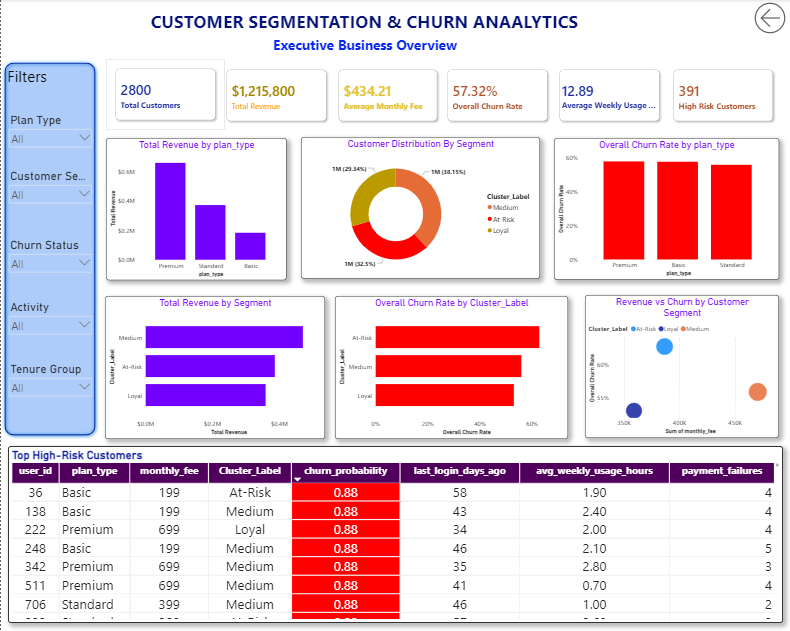

The page's visual inventory and layout, read from the dashboard file:
{"tool":"powerbi","page":{"name":"Executive dashboard","canvas":[2000,1600],"ordinal":1},"visuals":[{"type":"shape","box":[0,151.9,248.1,962],"z":0,"group":"g1"},{"type":"cardVisual","fields":{"Data":["customer_analytics_final.High Risk Customers"]},"box":[1679.6,154.4,300,179.7],"z":0},{"type":"cardVisual","fields":{"Data":["customer_analytics_final.Average Weekly Usage"]},"box":[1389.9,154.4,301.3,179.7],"z":1000},{"type":"slicer","fields":{"Values":["customer_analytics_final.plan_type"]},"box":[10.1,283.5,230.4,129.1],"z":1000,"group":"g1"},{"type":"cardVisual","fields":{"Data":["customer_analytics_final.Overall Churn Rate"]},"box":[1106.3,154.4,301.3,179.7],"z":2000},{"type":"slicer","fields":{"Values":["customer_analytics_final.Cluster_Label"]},"box":[10.1,425.3,230,121.5],"z":2000,"group":"g1"},{"type":"cardVisual","fields":{"Data":["customer_analytics_final.Average Monthly Fee"]},"box":[830.3,154.4,298.7,179.7],"z":3000},{"type":"slicer","fields":{"Values":["customer_analytics_final.predicted_churn"]},"box":[10.1,600,230,129.1],"z":3000,"group":"g1"},{"type":"cardVisual","fields":{"Data":["customer_analytics_final.Total Revenue"]},"box":[547.3,154.4,301.3,179.7],"z":4000},{"type":"slicer","fields":{"Values":["customer_analytics_final.avg_weekly_usage_hours"]},"box":[10.1,757,230,121.5],"z":4000,"group":"g1"},{"type":"cardVisual","fields":{"Data":["customer_analytics_final.Total Customers"]},"box":[263.3,151.9,301.3,179.7],"z":5000},{"type":"slicer","fields":{"Values":["customer_analytics_final.tenure_months"]},"box":[10.1,913.9,230,136.7],"z":5000,"group":"g1"},{"type":"clusteredColumnChart","fields":{"Category":["customer_analytics_final.plan_type"],"Y":["customer_analytics_final.Total Revenue"]},"box":[265.7,352.3,457.4,360.1],"z":6000},{"type":"clusteredColumnChart","fields":{"Category":["customer_analytics_final.plan_type"],"Y":["customer_analytics_final.Overall Churn Rate"]},"box":[1400,351.9,569.6,359.5],"z":7000},{"type":"donutChart","title":"Customer Distribution By Segment","fields":{"Category":["customer_analytics_final.Cluster_Label"],"Y":["Sum(customer_analytics_final.user_id)"]},"box":[759.5,349.4,605.1,359.5],"z":8000},{"type":"clusteredBarChart","title":"Total Revenue by Segment","fields":{"Category":["customer_analytics_final.Cluster_Label"],"Y":["customer_analytics_final.Total Revenue"]},"box":[263.3,751.9,557,362],"z":9000},{"type":"clusteredBarChart","fields":{"Category":["customer_analytics_final.Cluster_Label"],"Y":["customer_analytics_final.Overall Churn Rate"]},"box":[845.6,751.9,589.9,362],"z":10000},{"type":"scatterChart","title":"Revenue vs Churn by Customer Segment","fields":{"Series":["customer_analytics_final.Cluster_Label"],"X":["Sum(customer_analytics_final.monthly_fee)"],"Y":["customer_analytics_final.Overall Churn Rate"],"Size":["Sum(customer_analytics_final.user_id)"]},"box":[1478.5,749.4,491.1,362],"z":11000},{"type":"tableEx","title":"Top High-Risk Customers","fields":{"Values":["customer_analytics_final.user_id","customer_analytics_final.plan_type","customer_analytics_final.monthly_fee","customer_analytics_final.Cluster_Label","customer_analytics_final.churn_probability","customer_analytics_final.last_login_days_ago","customer_analytics_final.avg_weekly_usage_hours","customer_analytics_final.payment_failures"]},"box":[17.7,1131.6,1962,448.1],"z":12000},{"type":"group","id":"g1","title":"Group 1","box":[0,151.9,248.1,962],"z":13000},{"type":"shape","box":[362,25.3,1116.5,91.1],"z":14000},{"type":"shape","box":[673.4,78.5,496.2,73.4],"z":15000},{"type":"cardVisual","fields":{"Data":["customer_analytics_final.Total Customers"]},"box":[265.8,151.9,301.3,179.7],"z":16000},{"type":"actionButton","box":[1898.7,0,101.3,96.2],"z":16001}]}

Visuals, with their boxes in screenshot pixels (x1, y1, x2, y2), scaled from the page's 2000x1600 canvas onto the 790x631 screenshot:
shape: (left=0, top=60, right=98, bottom=439)
cardVisual - customer_analytics_final.High Risk Customers: (left=663, top=61, right=782, bottom=132)
cardVisual - customer_analytics_final.Average Weekly Usage: (left=549, top=61, right=668, bottom=132)
slicer - customer_analytics_final.plan_type: (left=4, top=112, right=95, bottom=163)
cardVisual - customer_analytics_final.Overall Churn Rate: (left=437, top=61, right=556, bottom=132)
slicer - customer_analytics_final.Cluster_Label: (left=4, top=168, right=95, bottom=216)
cardVisual - customer_analytics_final.Average Monthly Fee: (left=328, top=61, right=446, bottom=132)
slicer - customer_analytics_final.predicted_churn: (left=4, top=237, right=95, bottom=288)
cardVisual - customer_analytics_final.Total Revenue: (left=216, top=61, right=335, bottom=132)
slicer - customer_analytics_final.avg_weekly_usage_hours: (left=4, top=299, right=95, bottom=346)
cardVisual - customer_analytics_final.Total Customers: (left=104, top=60, right=223, bottom=131)
slicer - customer_analytics_final.tenure_months: (left=4, top=360, right=95, bottom=414)
clusteredColumnChart - customer_analytics_final.plan_type x customer_analytics_final.Total Revenue: (left=105, top=139, right=286, bottom=281)
clusteredColumnChart - customer_analytics_final.plan_type x customer_analytics_final.Overall Churn Rate: (left=553, top=139, right=778, bottom=281)
"Customer Distribution By Segment" donutChart: (left=300, top=138, right=539, bottom=280)
"Total Revenue by Segment" clusteredBarChart: (left=104, top=297, right=324, bottom=439)
clusteredBarChart - customer_analytics_final.Cluster_Label x customer_analytics_final.Overall Churn Rate: (left=334, top=297, right=567, bottom=439)
"Revenue vs Churn by Customer Segment" scatterChart: (left=584, top=296, right=778, bottom=438)
"Top High-Risk Customers" tableEx: (left=7, top=446, right=782, bottom=623)
"Group 1" group: (left=0, top=60, right=98, bottom=439)
shape: (left=143, top=10, right=584, bottom=46)
shape: (left=266, top=31, right=462, bottom=60)
cardVisual - customer_analytics_final.Total Customers: (left=105, top=60, right=224, bottom=131)
actionButton: (left=750, top=0, right=789, bottom=38)
